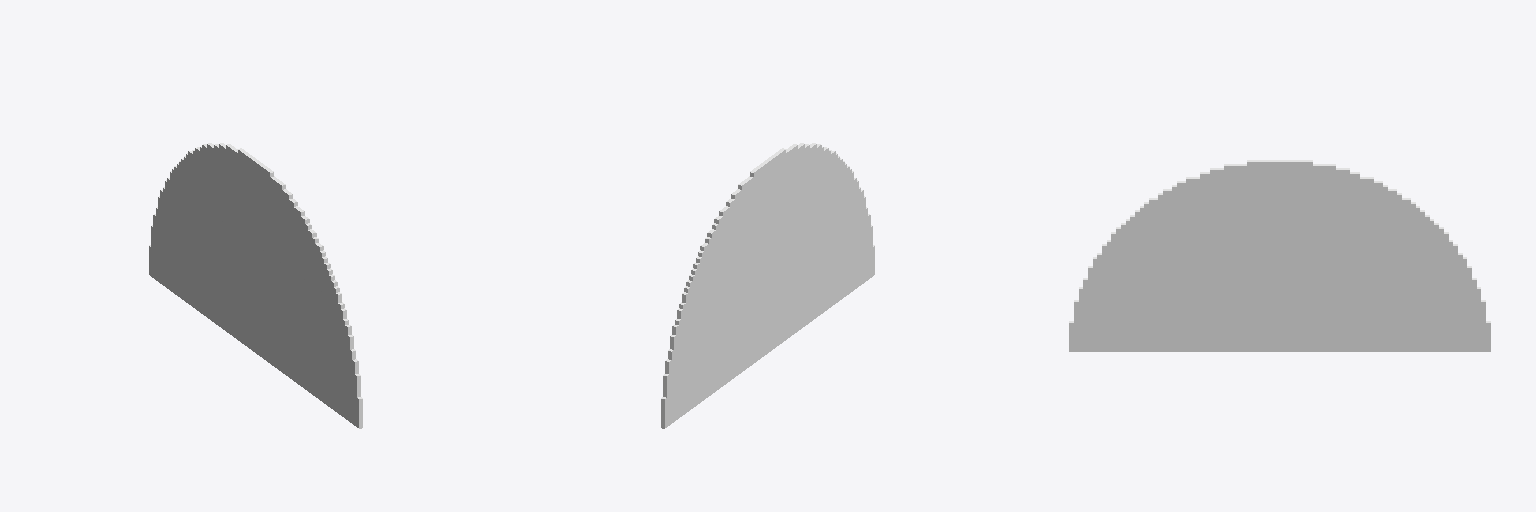
Rendered from Skywalk-0.obj.
3 renders of one model, left to right at view 1: azimuth 30°, elevation 25°; view 2: azimuth 150°, elevation 25°; view 3: azimuth 270°, elevation 25°, orthographic.
Parts seen in each view (by area): view 1: object 1; view 2: object 1; view 3: object 1.
Boxes of the visible parts, <box> form: object 1: <box>149,143,362,428</box>; object 1: <box>661,143,874,428</box>; object 1: <box>1069,160,1490,351</box>.
Bounding box in the file's own units: 0.1 × 4.5 × 9.